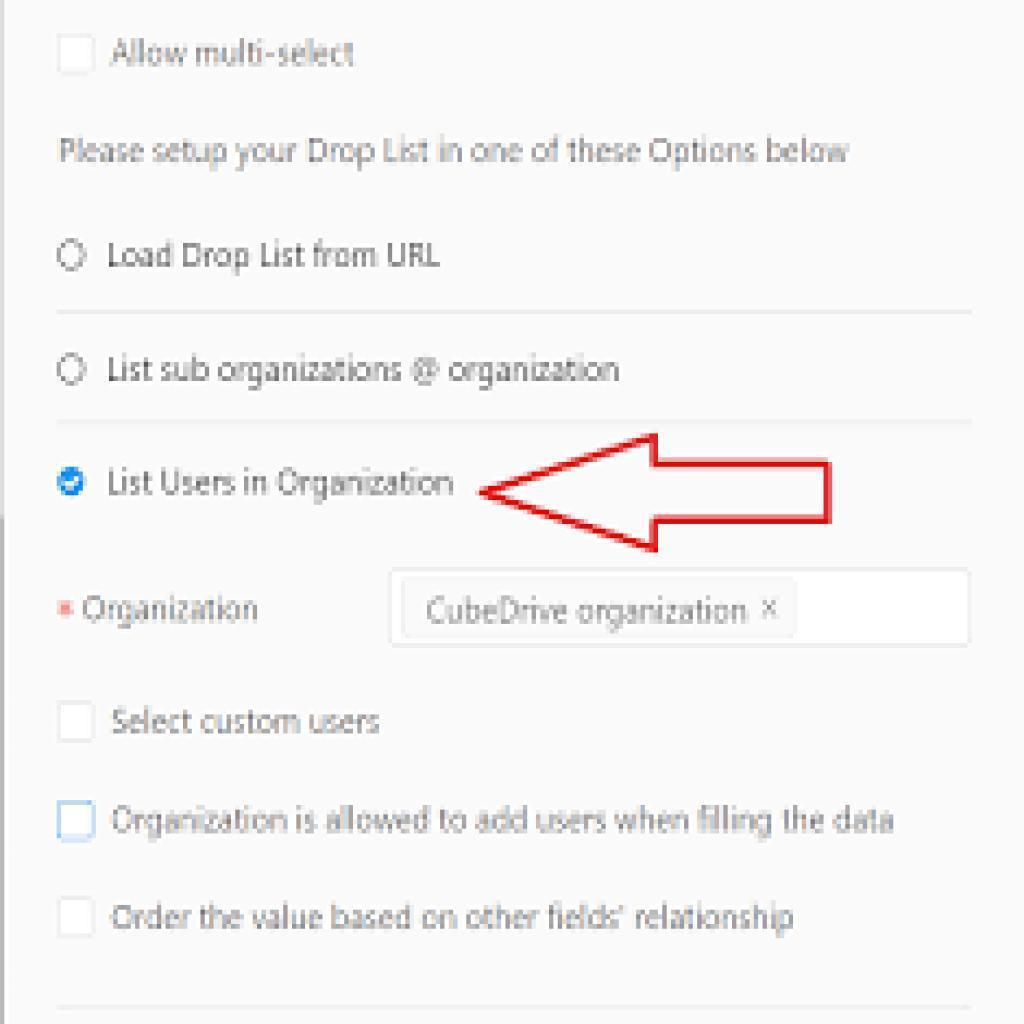button: (400, 577, 797, 637)
checkbox: (57, 32, 96, 78), (54, 801, 97, 842), (58, 895, 98, 939), (57, 701, 97, 743)
label: (109, 796, 896, 841), (109, 900, 797, 939), (104, 350, 625, 390), (100, 233, 446, 276), (106, 464, 459, 503), (110, 701, 382, 739), (109, 39, 361, 74)
radio: (54, 236, 89, 276), (55, 351, 89, 390), (55, 466, 89, 497)
